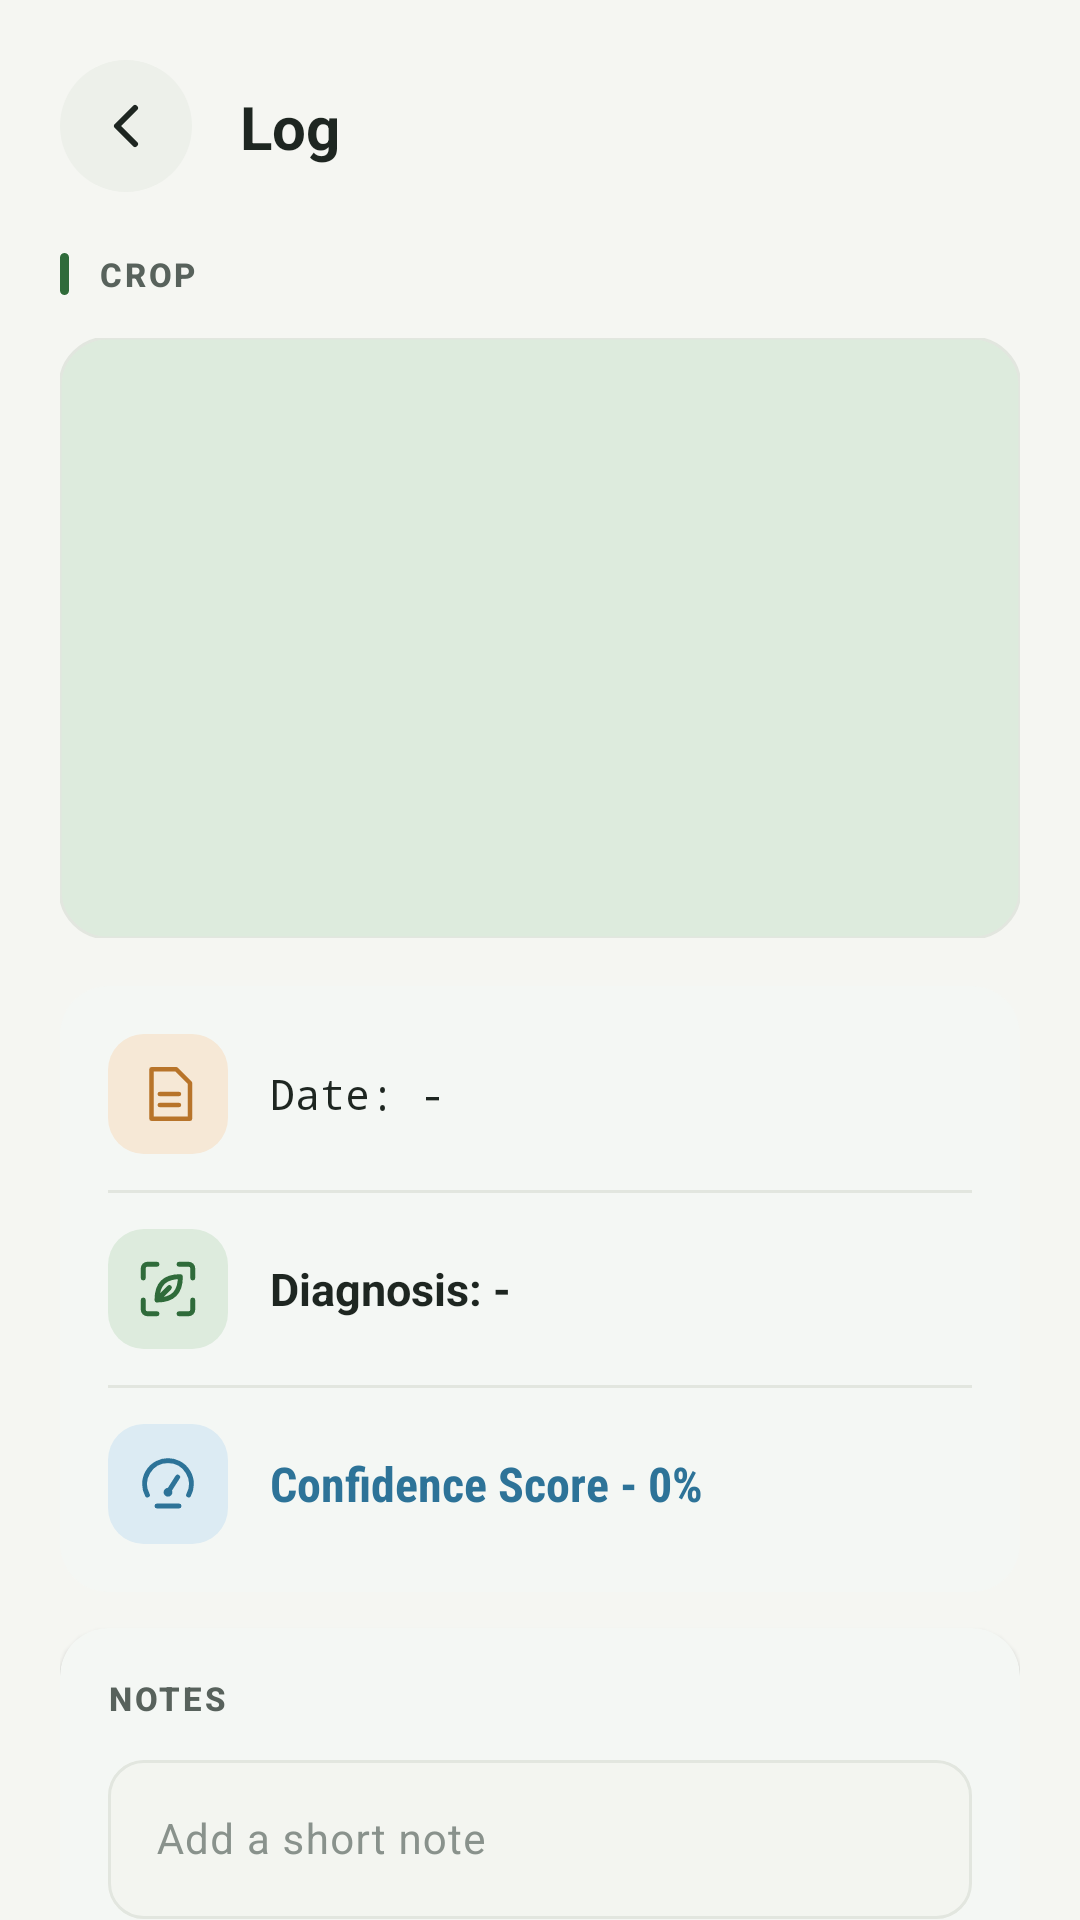

Icon bounding boxes for this 1080px x 1920px phone screenshot, format {"x1": x1, "y1": y1, "x2": x2, "y2": y2}:
Back: {"x1": 114, "y1": 105, "x2": 138, "y2": 147}
document: {"x1": 108, "y1": 1034, "x2": 228, "y2": 1154}
leaf scan: {"x1": 108, "y1": 1229, "x2": 228, "y2": 1349}
